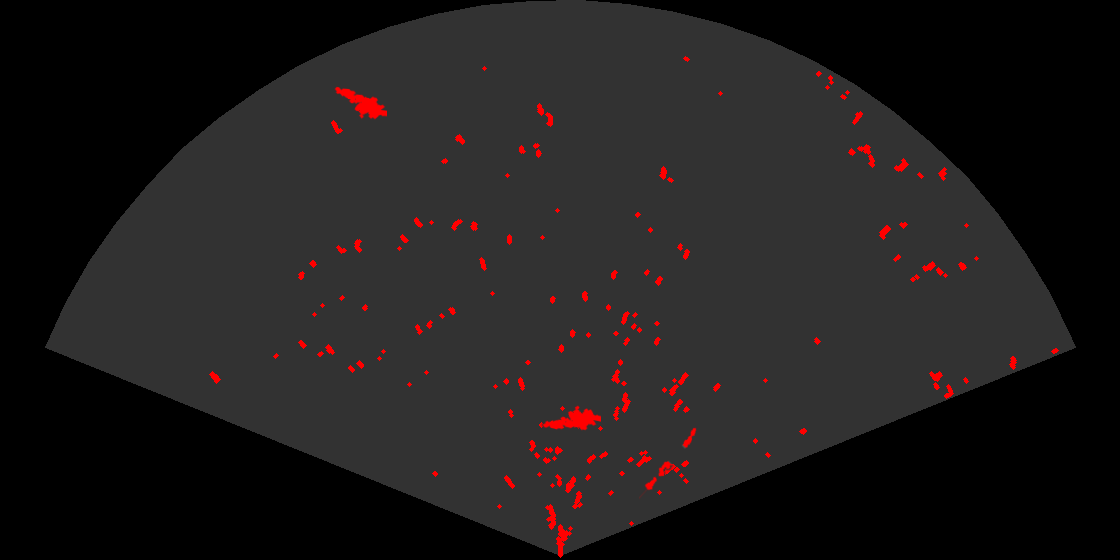chain: (639, 426, 698, 501)
frogman: (333, 85, 387, 121), (541, 404, 601, 432)
